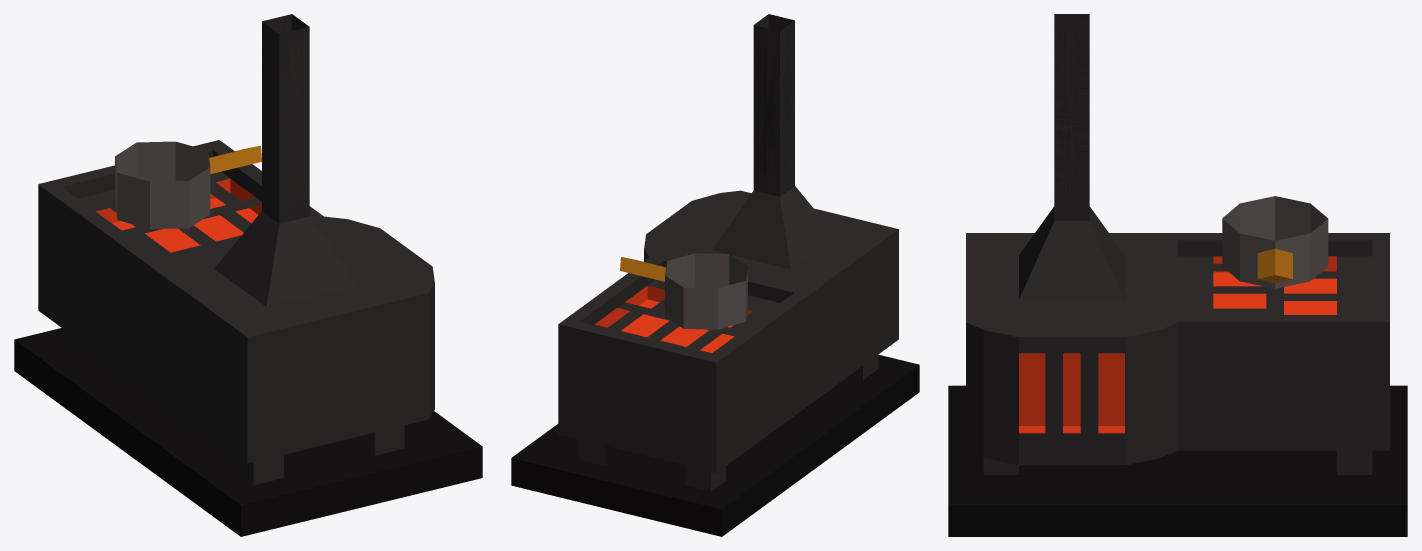
Rendered from obj_range_6_0.obj.
The picture shows the model from 3 angles, left to right: view 1: azimuth 30°, elevation 25°; view 2: azimuth 150°, elevation 25°; view 3: azimuth 270°, elevation 25°; orthographic projection. The views are drawn at different scales.
Bounding box in the file's own units: 1 × 1.75 × 1.62.
